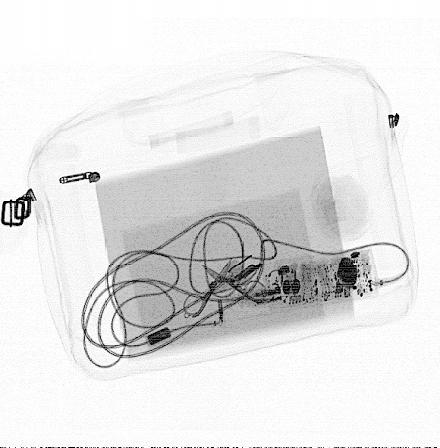Scissors: (182, 256, 269, 320)
